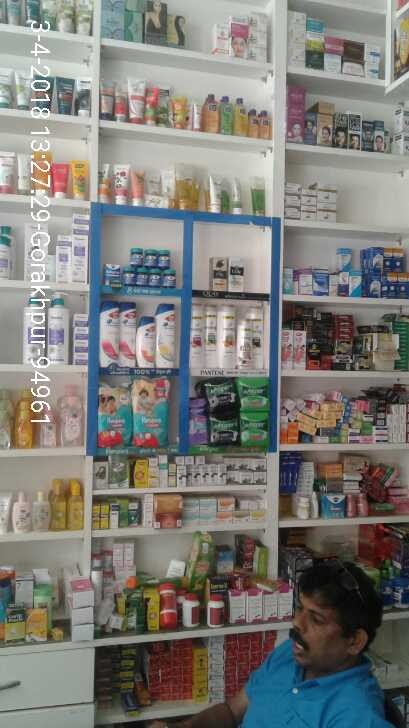vicks: (105, 247, 179, 290)
